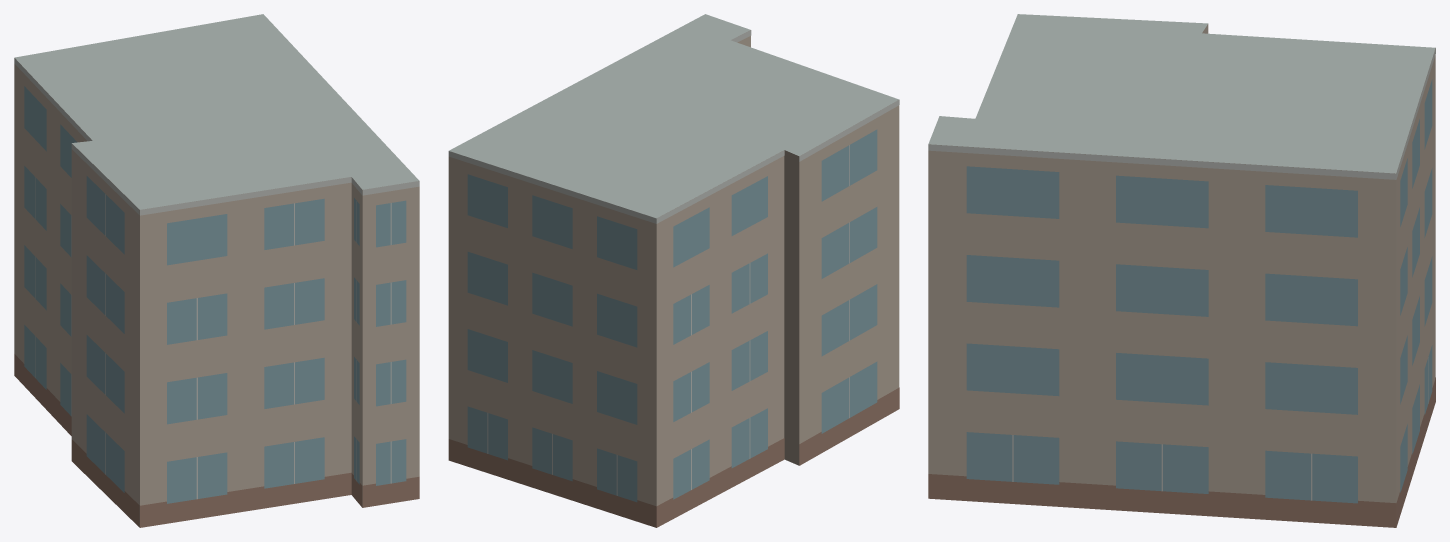
File: survey-upis-32677989.glb
3 views of the same model, side by side, from view 1: azimuth 30°, elevation 25°; view 2: azimuth 150°, elevation 25°; view 3: azimuth 270°, elevation 25° (orthographic). The views are drawn at different scales.
Parts seen in each view (by area): view 1: survey-upis-32677989.tmp; view 2: survey-upis-32677989.tmp; view 3: survey-upis-32677989.tmp.
Boxes of the visible parts, bbox=[...] form: survey-upis-32677989.tmp: bbox=[14, 14, 419, 527]; survey-upis-32677989.tmp: bbox=[448, 14, 899, 527]; survey-upis-32677989.tmp: bbox=[928, 14, 1435, 527].
Size of the model in its own units: 13.04 by 13.5 by 17.53.
